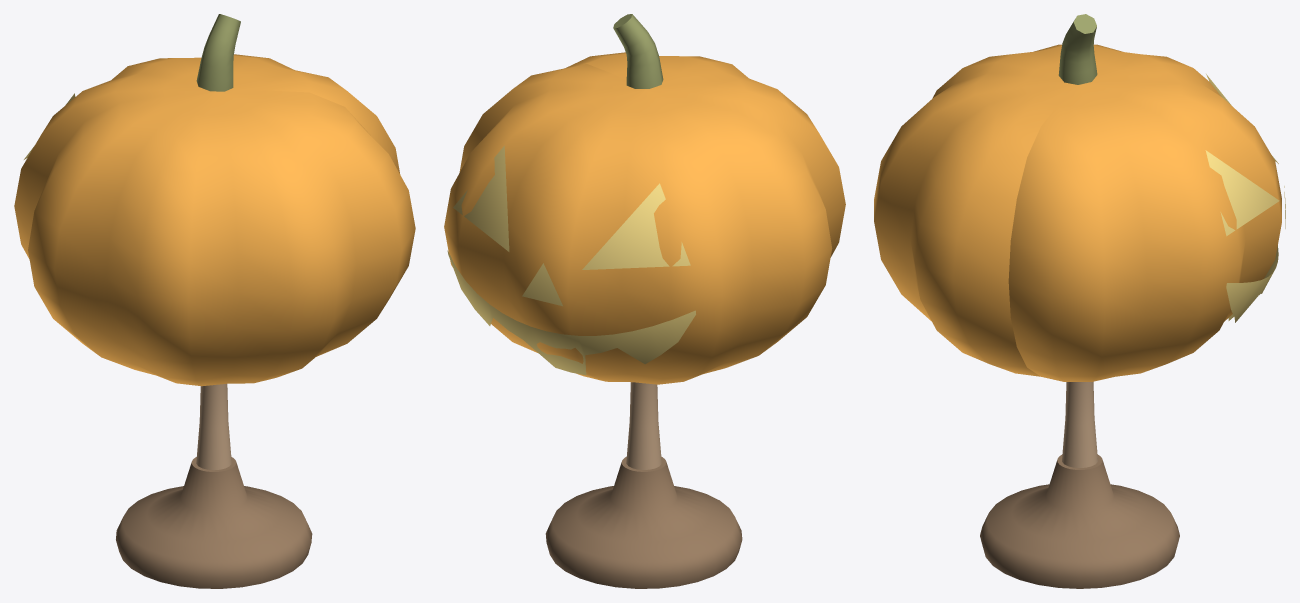
The model's file is item-pumpkin-head.glb.
The picture shows the model from 3 angles, left to right: view 1: azimuth 30°, elevation 25°; view 2: azimuth 150°, elevation 25°; view 3: azimuth 270°, elevation 25°; orthographic projection.
Size of the model in its own units: 0.3585 by 0.5226 by 0.3619.
